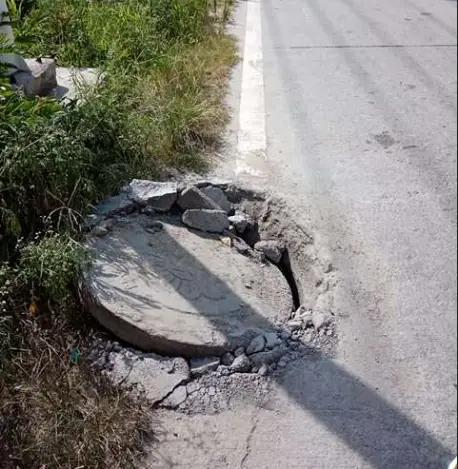wellcover: (54, 178, 319, 360)
